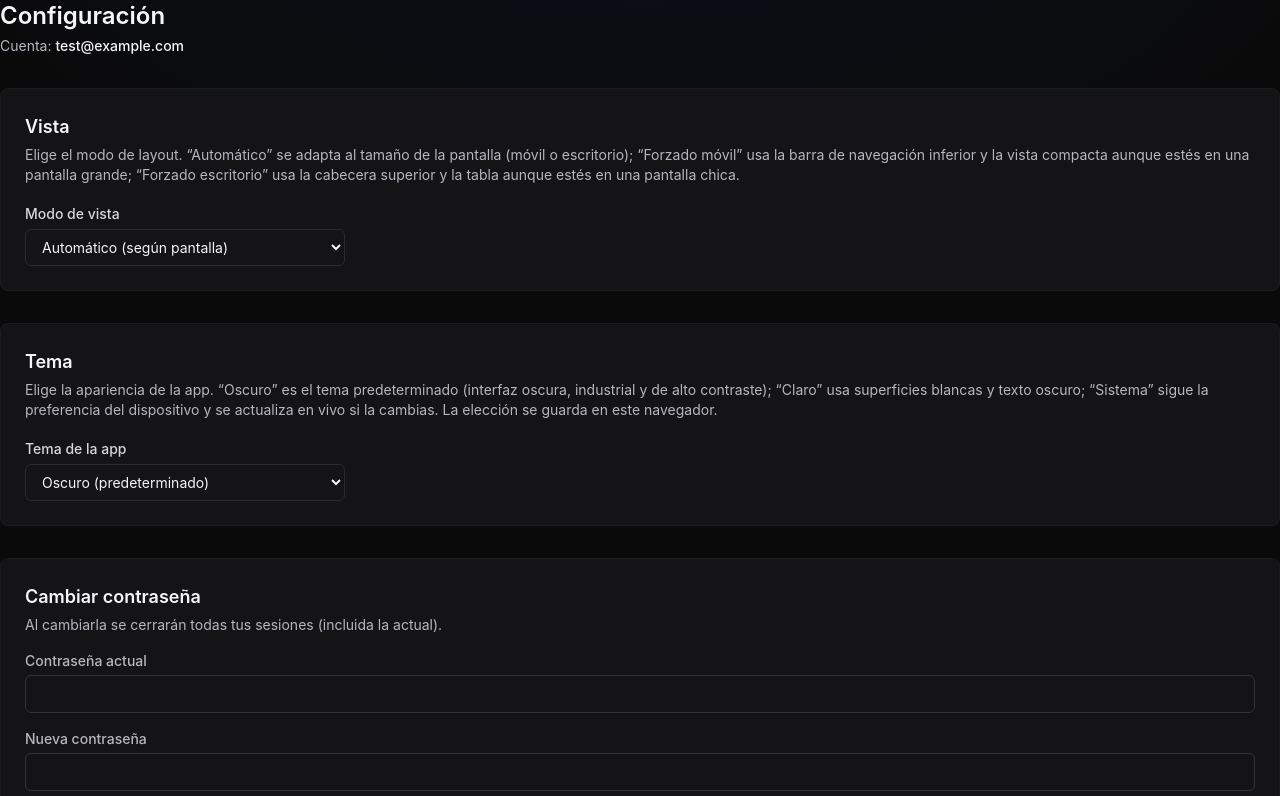
Scenario: SettingsPage › muestra el error del servidor si la contraseña actual es incorrecta
Type "WrongPass1" into the password field labelled "Contraseña actual" at point(640, 694), box 25,675 -> 1255,713
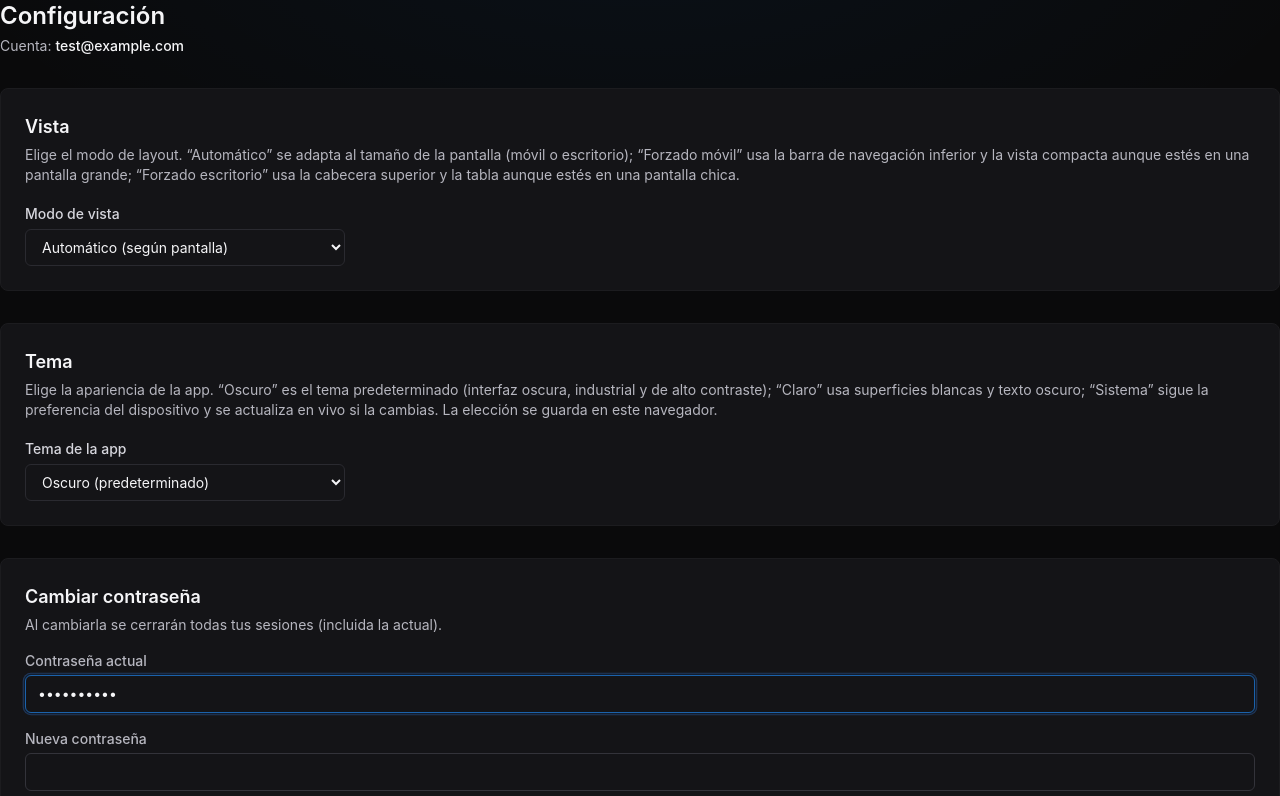
Type "NewPass456" into the password field labelled "Nueva contraseña" at point(640, 772), box 25,753 -> 1255,791
(page scrolled)
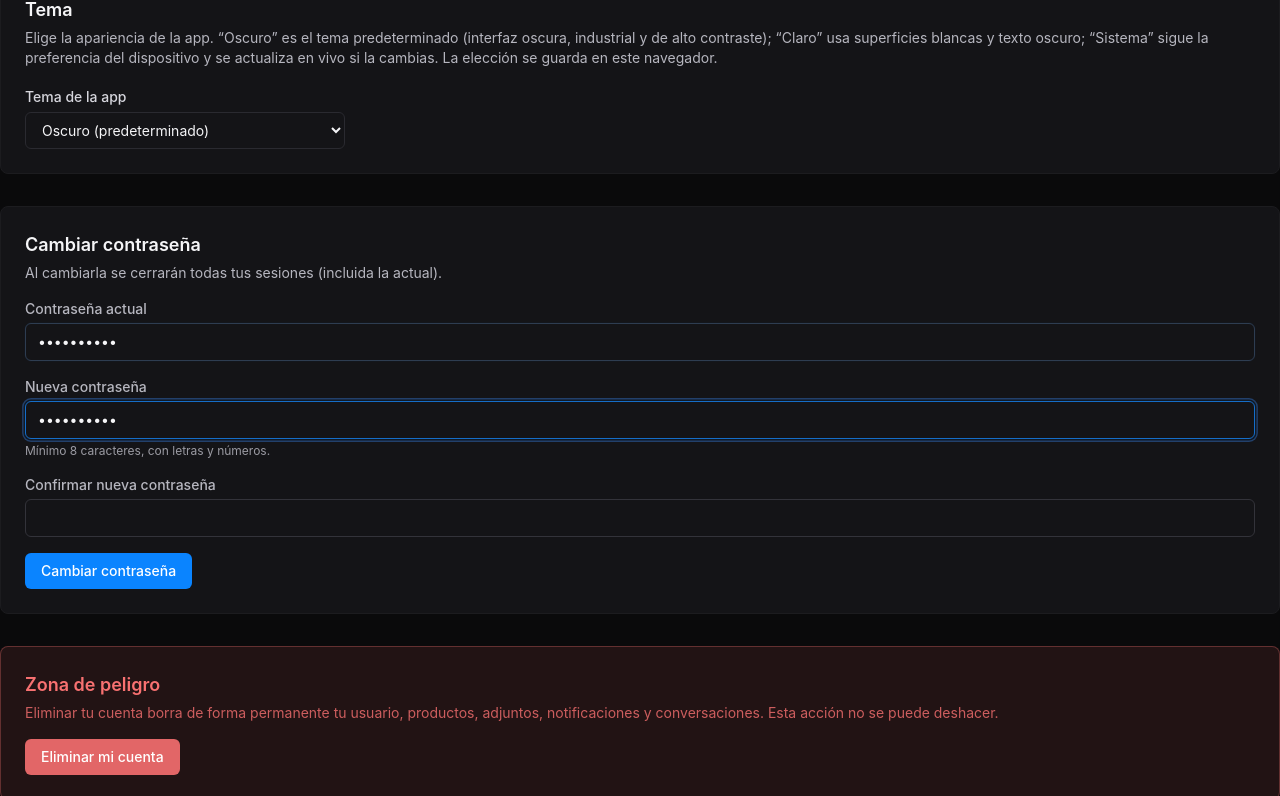
Type "NewPass456" into the password field labelled "Confirmar nueva contraseña" at point(640, 518), box 25,499 -> 1255,537
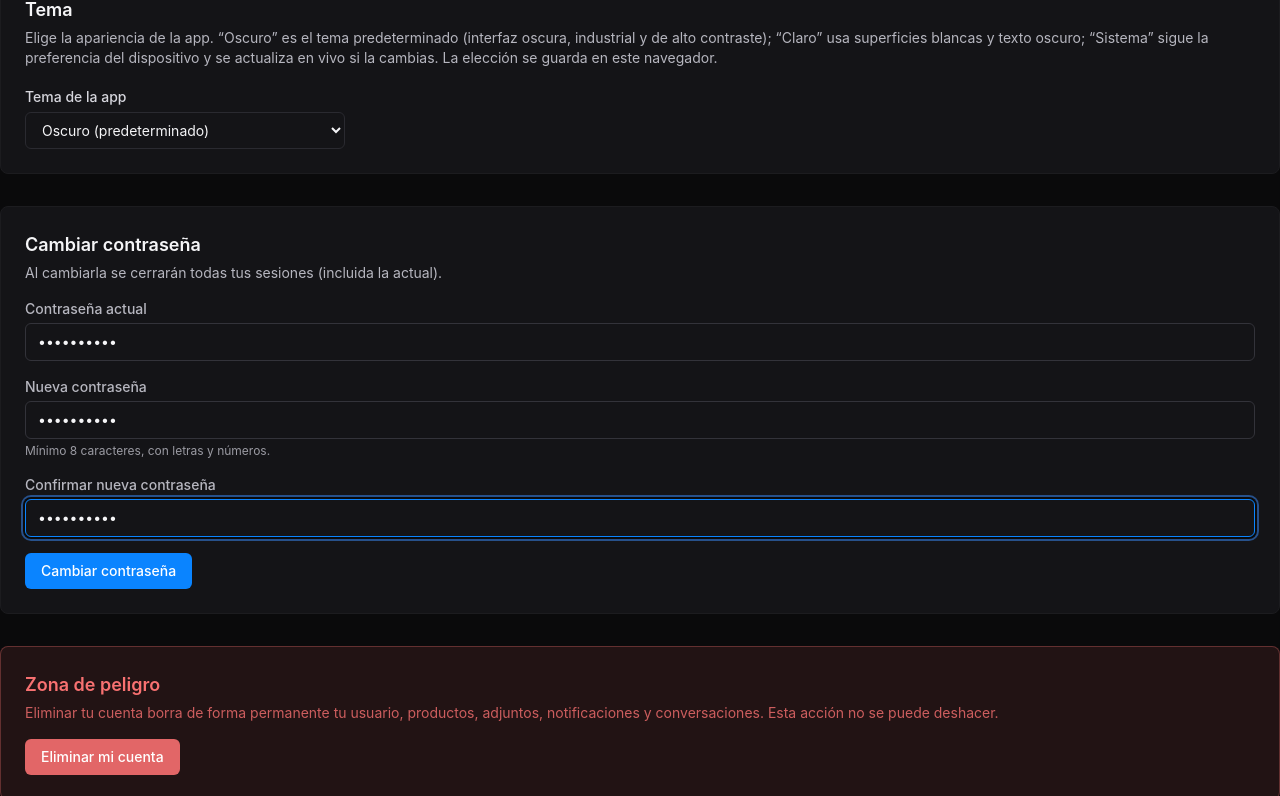
Click the button "Cambiar contraseña" at point(109, 571), box 25,553 -> 192,589
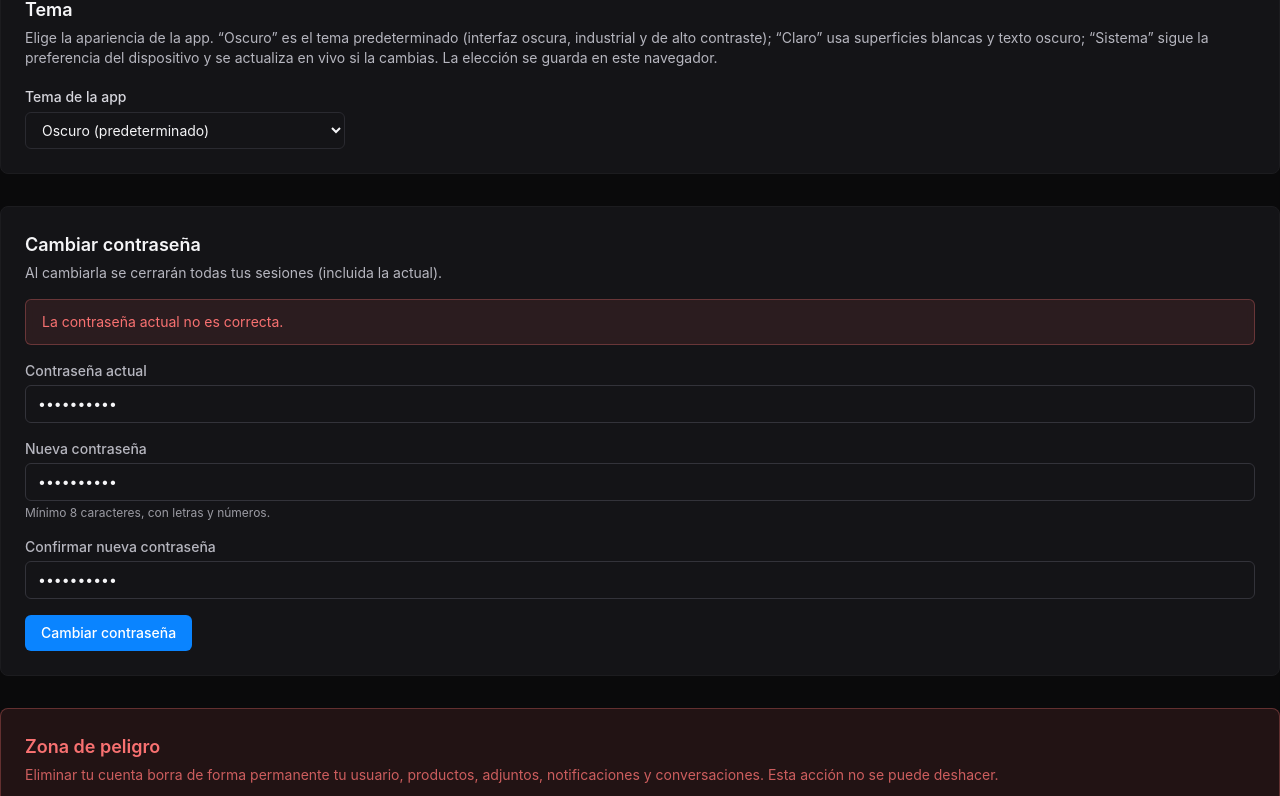
expect the text "La contraseña actual no es correcta." is shown: met, box 25,299 -> 1255,345
